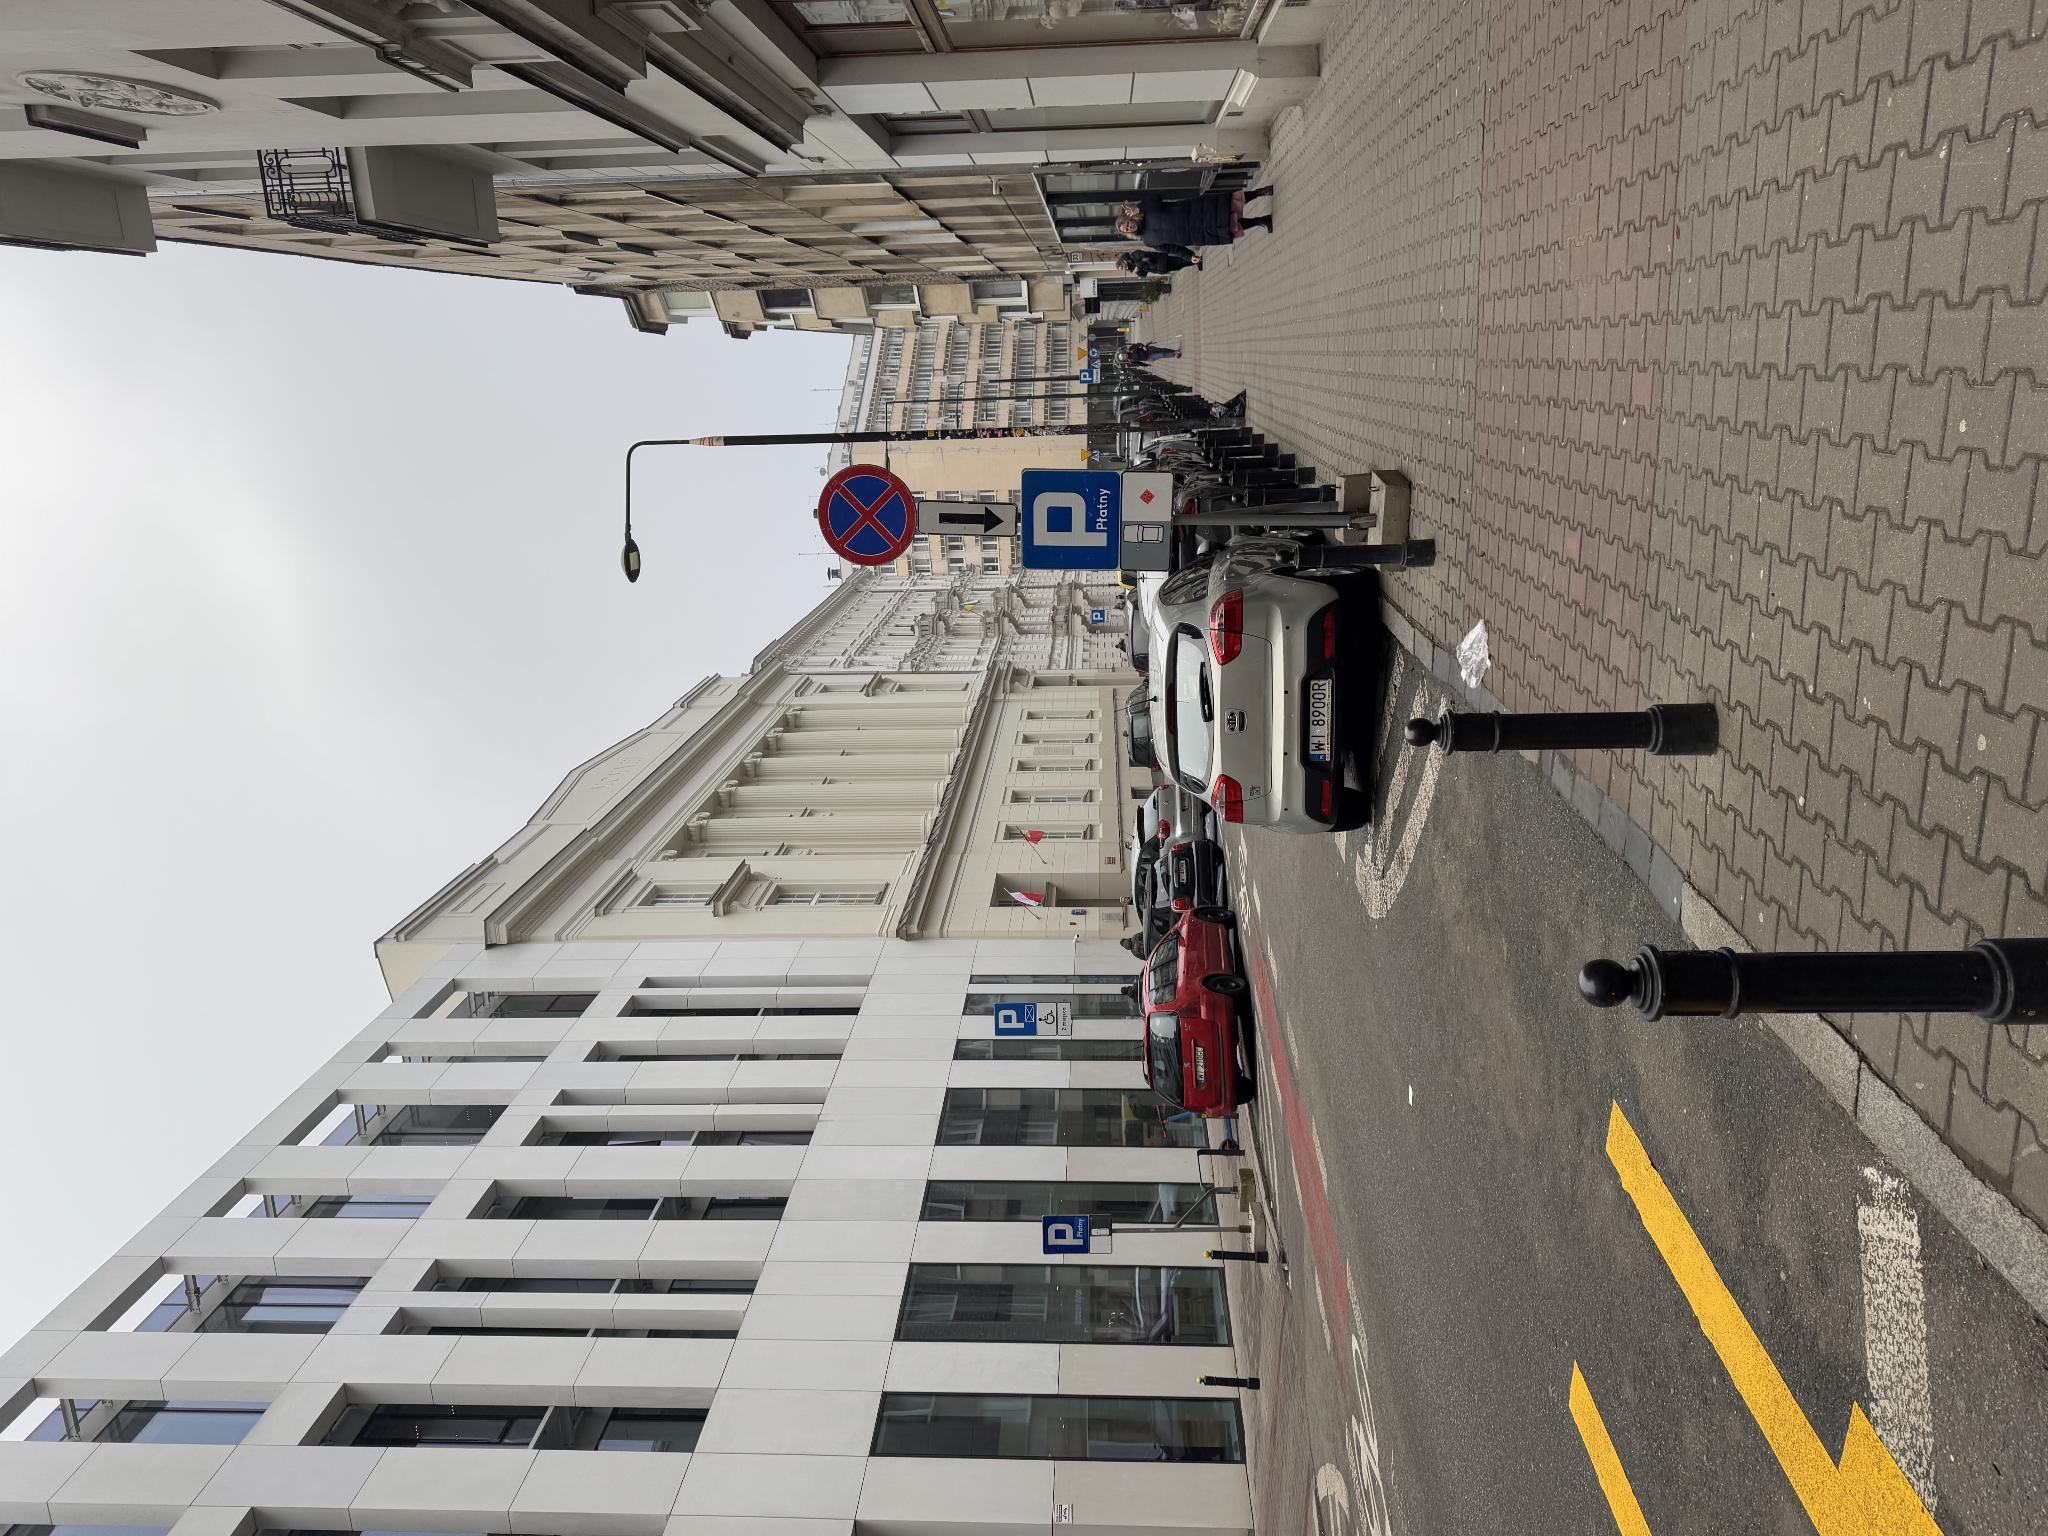information: (964, 1020, 1068, 1118), (282, 1042, 323, 1091), (500, 994, 534, 1036), (1151, 1079, 1166, 1092), (913, 1092, 926, 1104), (1168, 1091, 1177, 1100), (1074, 1092, 1084, 1100)
mandatory: (1179, 1091, 1187, 1099)
other: (964, 1120, 1066, 1173), (1000, 918, 1035, 1018), (282, 1091, 321, 1112), (498, 1037, 534, 1057), (500, 1057, 534, 1071), (1153, 1094, 1166, 1100), (914, 1105, 926, 1112)
prohibitory: (969, 816, 1072, 918)
warning: (1177, 1078, 1190, 1089), (1076, 1081, 1087, 1091)
